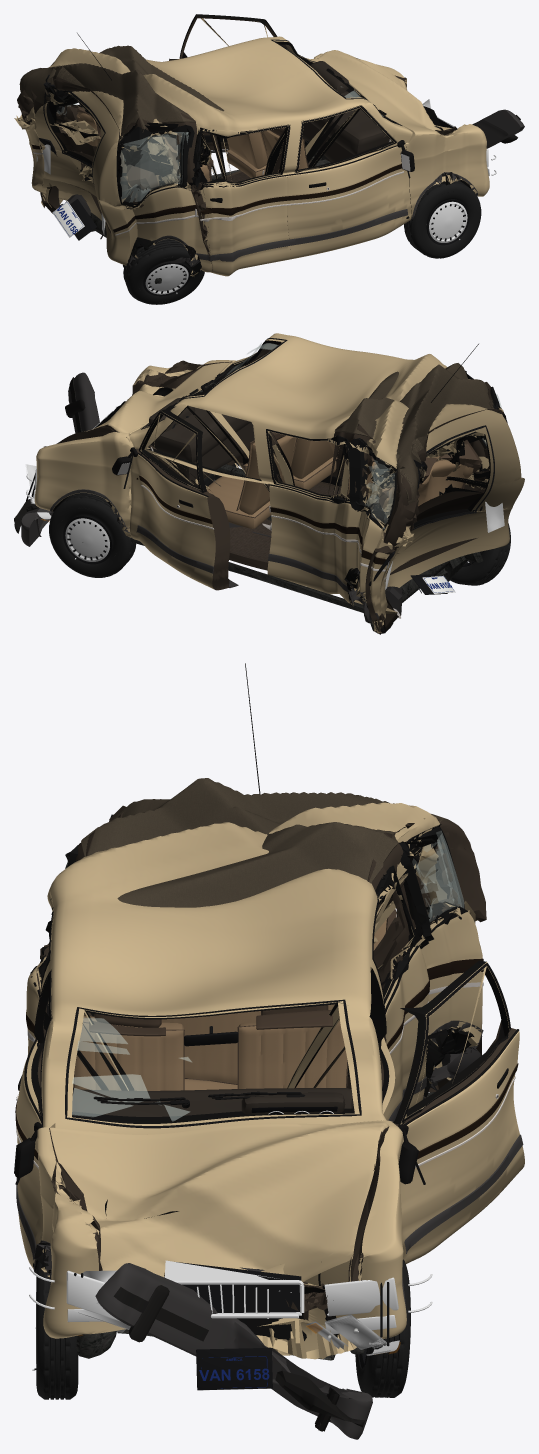
The model's file is minivan86_rear_d3.glb.
3 views of the same model, one above another, from view 1: azimuth 30°, elevation 25°; view 2: azimuth 150°, elevation 25°; view 3: azimuth 270°, elevation 25° (orthographic). The views are drawn at different scales.
Parts seen in each view (by area): view 1: Body, Door_FR, Door_SR, Interior, Glass, Wheel_FR_mesh, Hood, Wheel_RR_mesh, Liftgate, Trim_FR, Trim, Trim_SR (+5 smaller); view 2: Body, Interior, Door_FL, Liftgate, Wheel_FL_mesh, Trim, Hood, Glass, Underbody, Bumper_F, Trim_FL, Ends (+2 smaller); view 3: Body, Hood, Interior, Door_FL, Ends, Bumper_F, Glass, Trim, Trim_FL, Door_FR, Wheel_FR_mesh, Wheel_FL_mesh (+4 smaller).
Part boxes in pixels (box(x1,y1,x2,y2)): Body: box(14, 36, 489, 277); Door_FR: box(287, 105, 411, 259); Door_SR: box(194, 124, 290, 276); Interior: box(76, 61, 389, 188); Glass: box(57, 39, 402, 206); Wheel_FR_mesh: box(404, 180, 481, 258); Hood: box(317, 50, 451, 147); Wheel_RR_mesh: box(123, 239, 204, 304); Liftgate: box(20, 66, 122, 241); Trim_FR: box(286, 106, 414, 245); Trim: box(32, 33, 477, 272); Trim_SR: box(192, 125, 289, 261); Body: box(34, 333, 524, 634); Interior: box(149, 398, 481, 528); Door_FL: box(129, 406, 230, 590); Liftgate: box(390, 407, 515, 574); Wheel_FL_mesh: box(49, 493, 136, 577); Trim: box(50, 344, 510, 623); Hood: box(56, 362, 232, 443); Glass: box(141, 338, 501, 531); Underbody: box(76, 464, 483, 633); Bumper_F: box(14, 372, 99, 546); Trim_FL: box(112, 411, 242, 587); Ends: box(26, 394, 504, 594); Body: box(26, 778, 486, 1359); Hood: box(49, 1120, 389, 1320); Interior: box(72, 909, 396, 1116); Door_FL: box(393, 960, 524, 1263); Ends: box(29, 1260, 432, 1390); Bumper_F: box(95, 1263, 372, 1439); Glass: box(65, 814, 464, 1128); Trim: box(33, 663, 483, 1307); Trim_FL: box(398, 963, 523, 1253); Door_FR: box(16, 970, 52, 1268); Wheel_FR_mesh: box(32, 1261, 78, 1399); Wheel_FL_mesh: box(355, 1259, 410, 1397).
Bounding box in the file's own units: 3.78 × 2.24 × 2.26.
33 materials, 5 textured.
